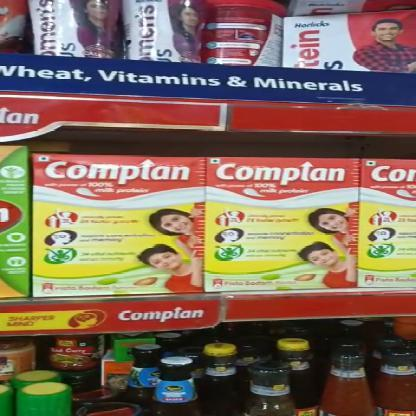Complan Pista Badam: (32, 155, 200, 295), (206, 156, 352, 287)
